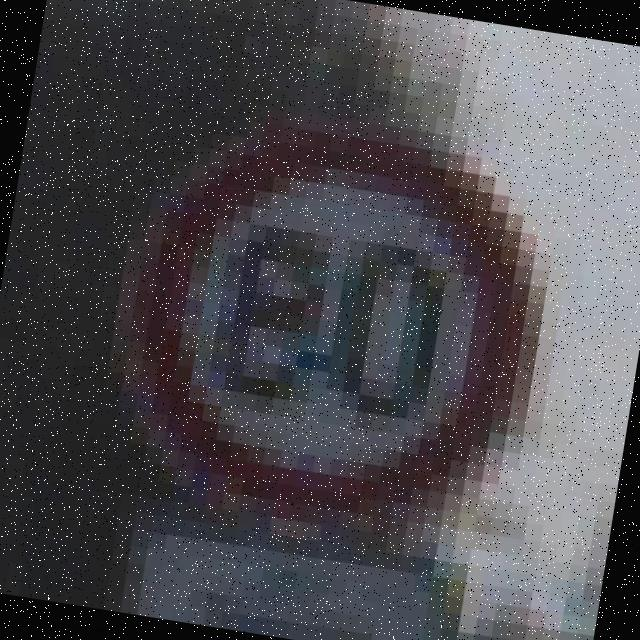Ograniczenie predkosci do 80: (104, 80, 566, 560)
